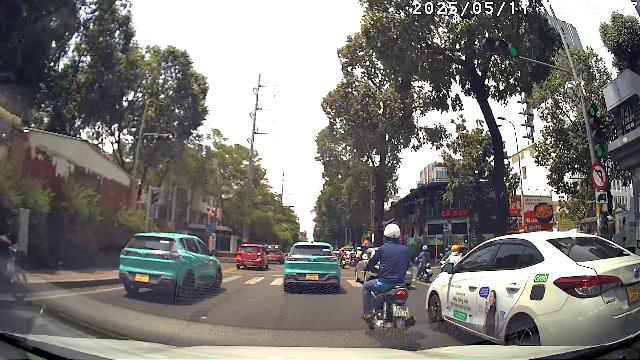123a-cam-re-trai: (590, 162, 609, 189)
